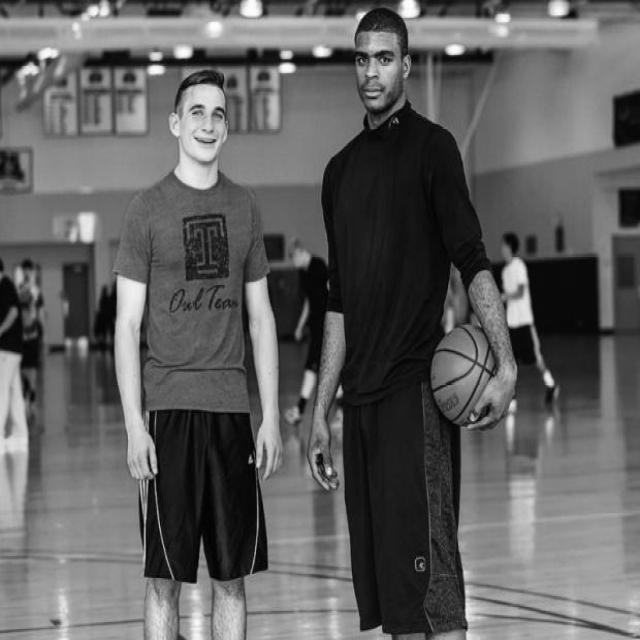person: (314, 16, 528, 632), (109, 70, 284, 640), (278, 228, 339, 426), (494, 232, 556, 382), (15, 250, 53, 400)
